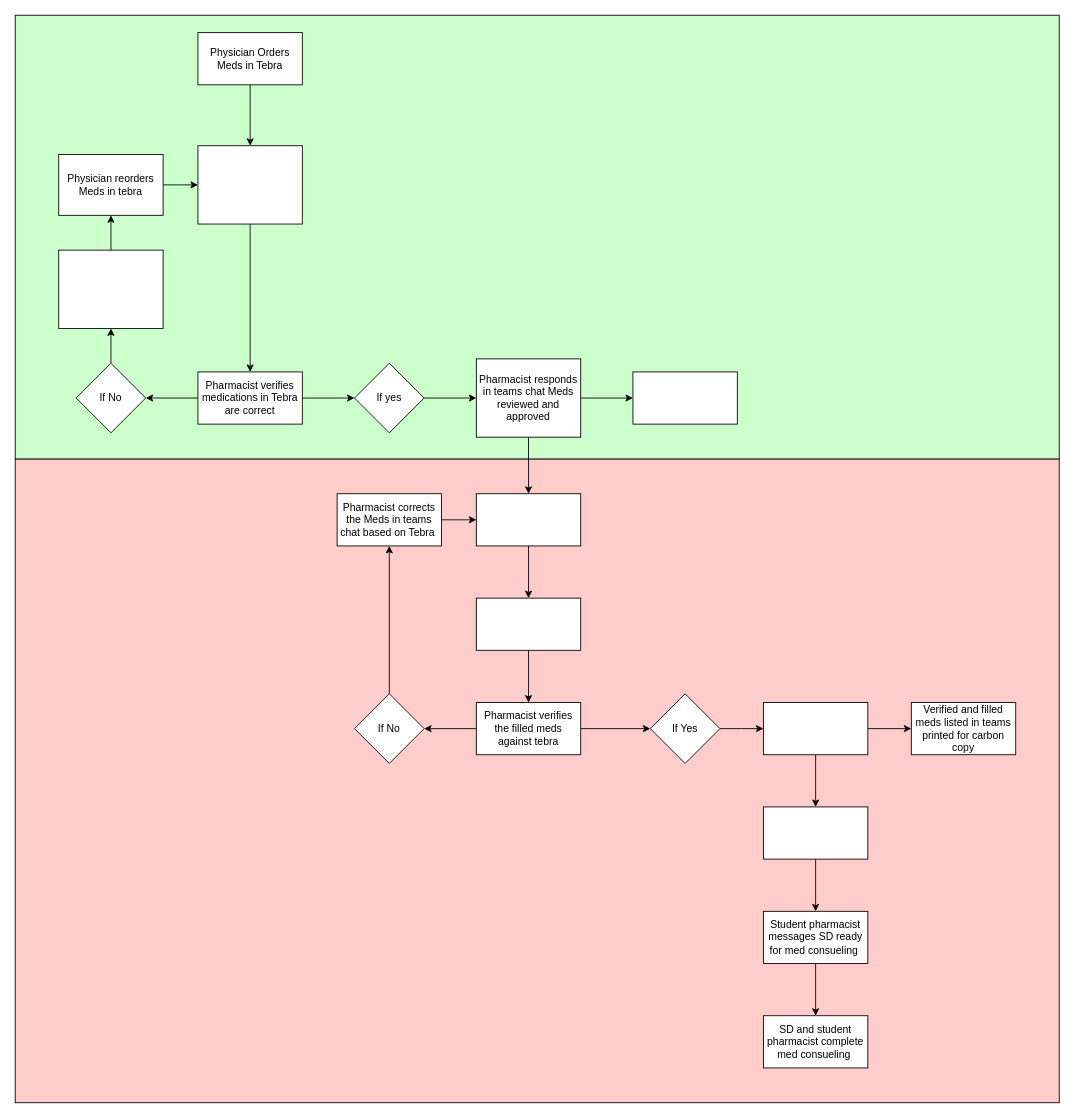
This 1074x1118 diagram has some shape labels left out. The centre of each missing label's shape, as x and y in pixels:
"Approved Meds listed in teams printed for carbon copy" belongs at point (684, 397).
"Dispensary volunteer fills the meds" belongs at point (528, 623).
"Dispensary volunteer uses meds in teams chat to print labels" belongs at point (528, 519).
"Pharmacist communicates with SD and physician to update Meds" belongs at point (110, 288).
"Pharmacist responds in Teams chat Meds filled and verified" belongs at point (815, 728).
"SD placed in queue for student pharmacist" belongs at point (815, 832).
"SD sends teams message updating pharmacist that Meds are available in Tebra" belongs at point (249, 184).
